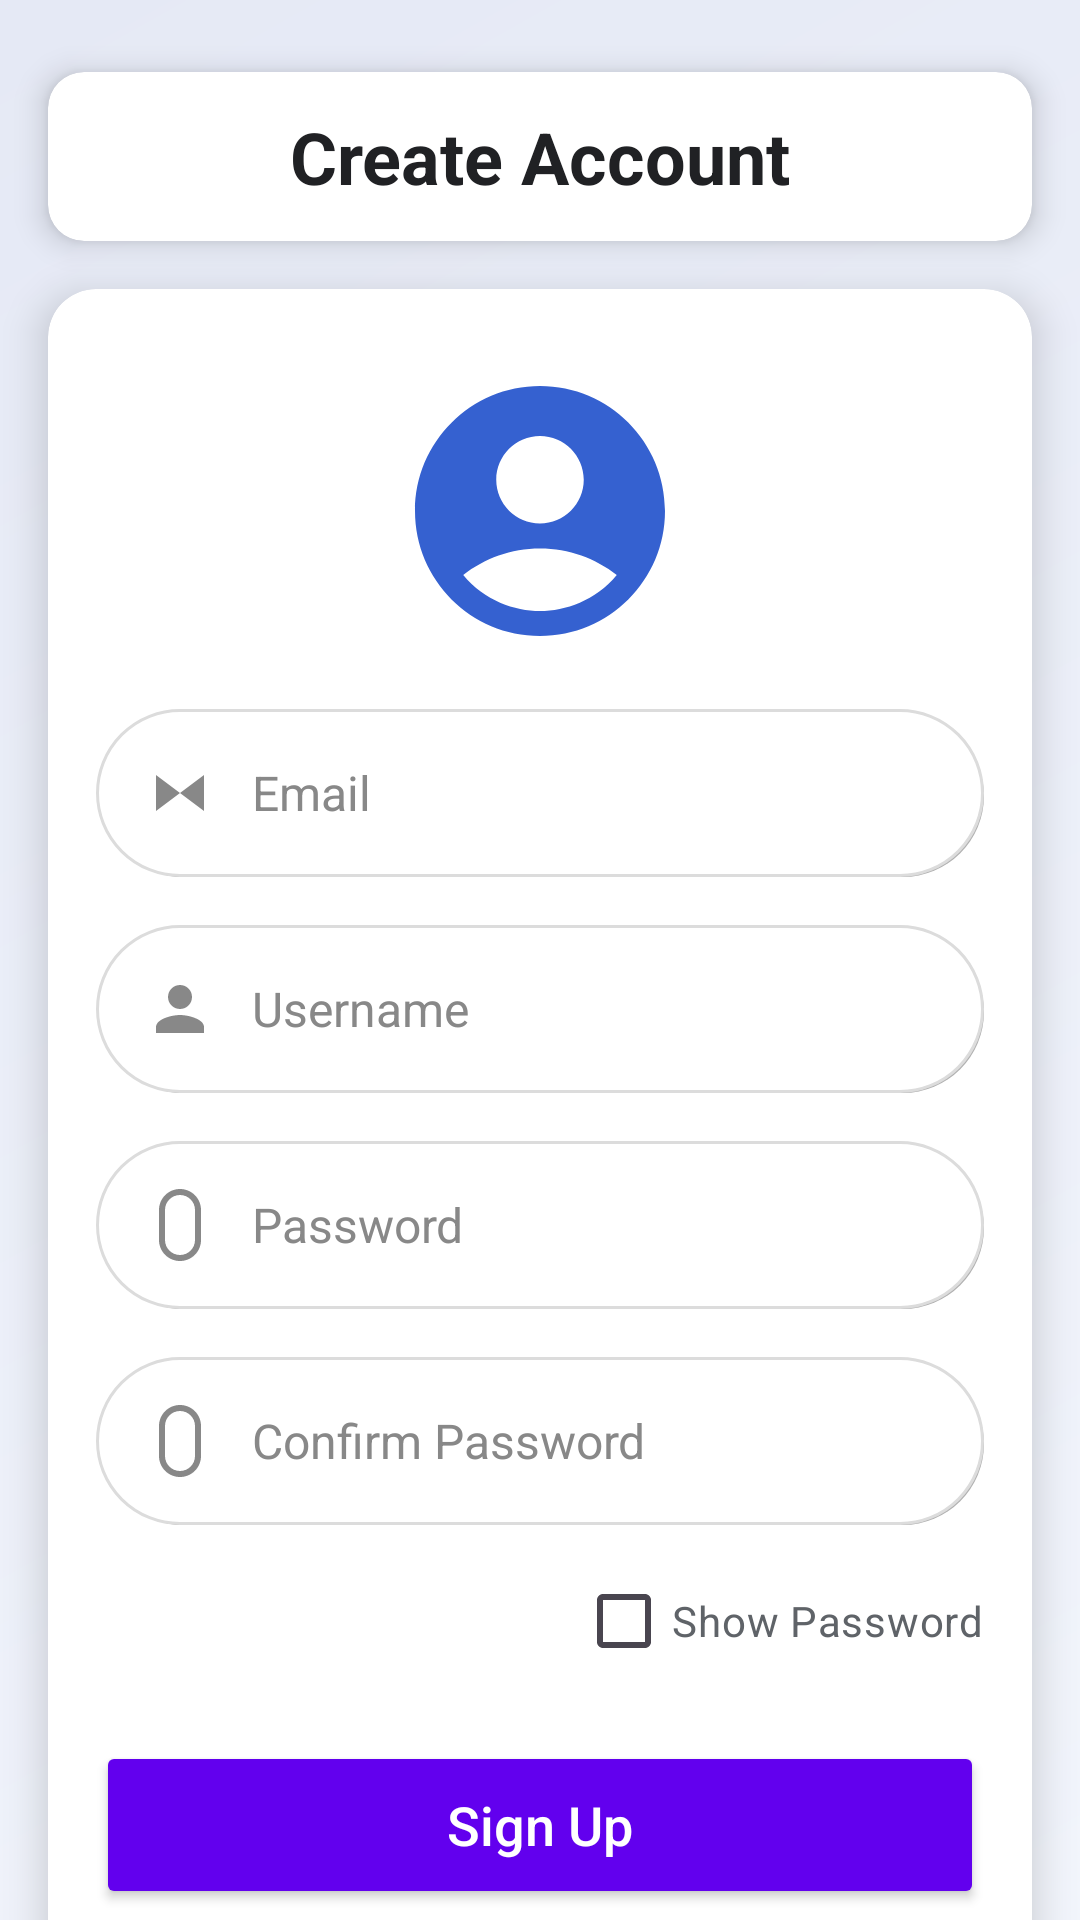

Point at icon controls on the screen. Image size 1080w x 1920h, points as (x=x, y=y).
account: (x=540, y=511)
